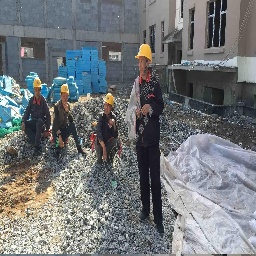helmet: (133, 42, 156, 65), (103, 90, 115, 109), (30, 74, 43, 89), (61, 83, 72, 98)
no-vest: (131, 80, 168, 123), (92, 111, 119, 139), (53, 100, 72, 130), (27, 97, 51, 119)
person: (127, 41, 168, 237), (52, 82, 88, 165), (92, 89, 121, 172), (21, 76, 51, 155)
